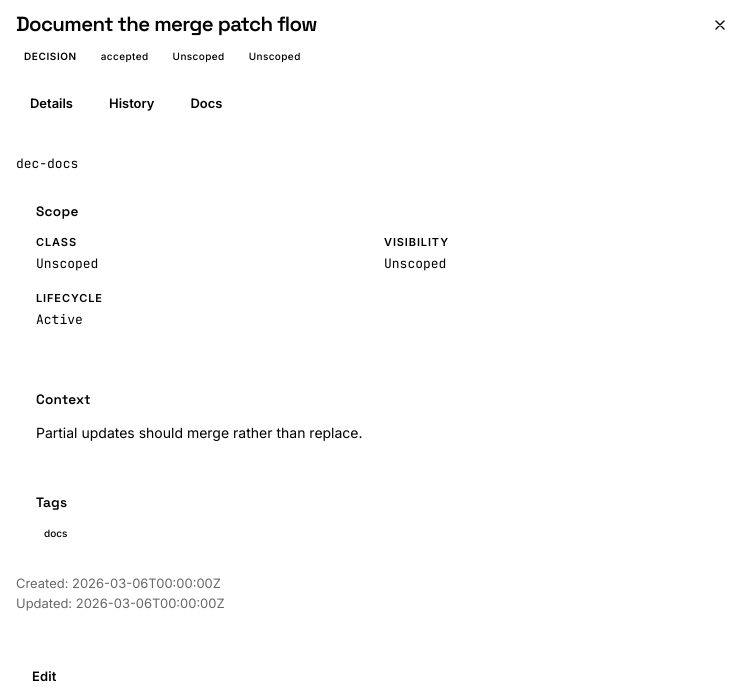
it: Blueprint documentation UI › renders markdown in the DetailDrawer docs tab
Click the button "Docs".
click(206, 103)  # box [176,85,236,122]
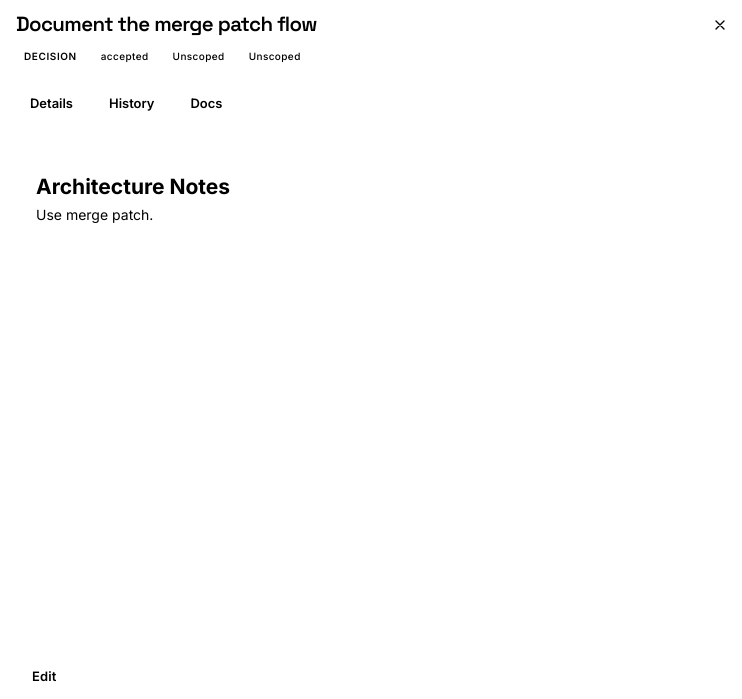
Expected: the heading "Architecture Notes" is shown, [36,174,230,199]
Expected: the text "Use merge patch." is shown, [36,206,153,223]
